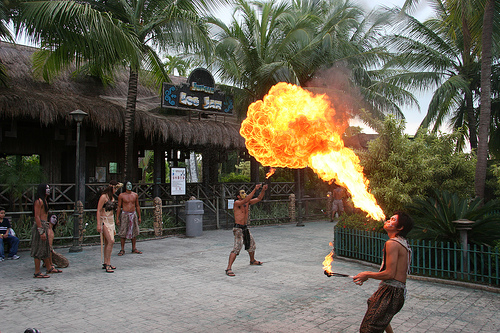fire: (245, 83, 386, 221)
